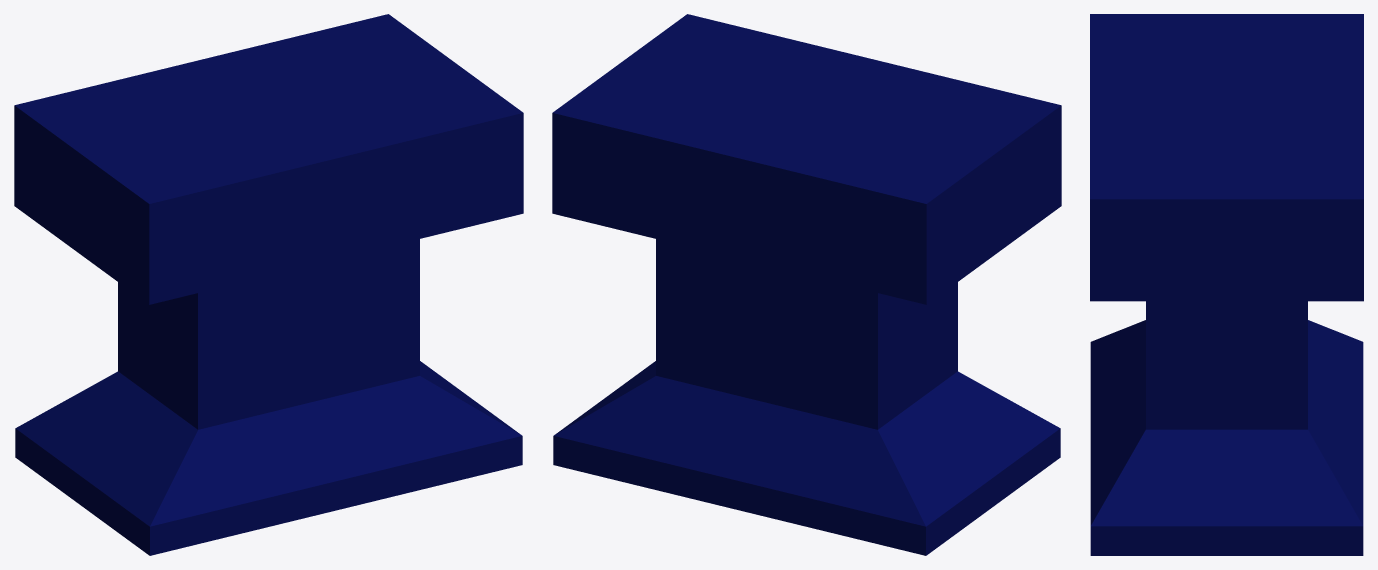
Rendered from obj_anvil.fbx.
The picture shows the model from 3 angles, left to right: view 1: azimuth 30°, elevation 25°; view 2: azimuth 150°, elevation 25°; view 3: azimuth 270°, elevation 25°; orthographic projection.
Parts seen in each view (by area): view 1: anvil; view 2: anvil; view 3: anvil.
Part boxes in pixels (bbox=[...]): anvil: bbox=[14, 14, 523, 555]; anvil: bbox=[552, 14, 1061, 555]; anvil: bbox=[1090, 14, 1363, 555].
Size of the model in its own units: 402 by 361 by 251.
